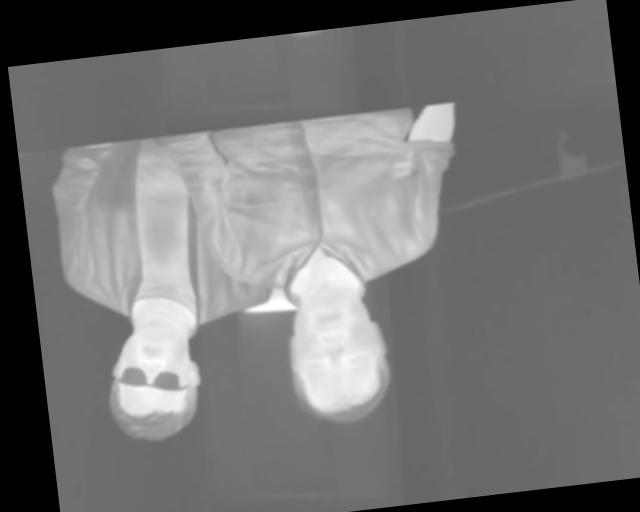face: (279, 279, 397, 430), (101, 318, 208, 447)
